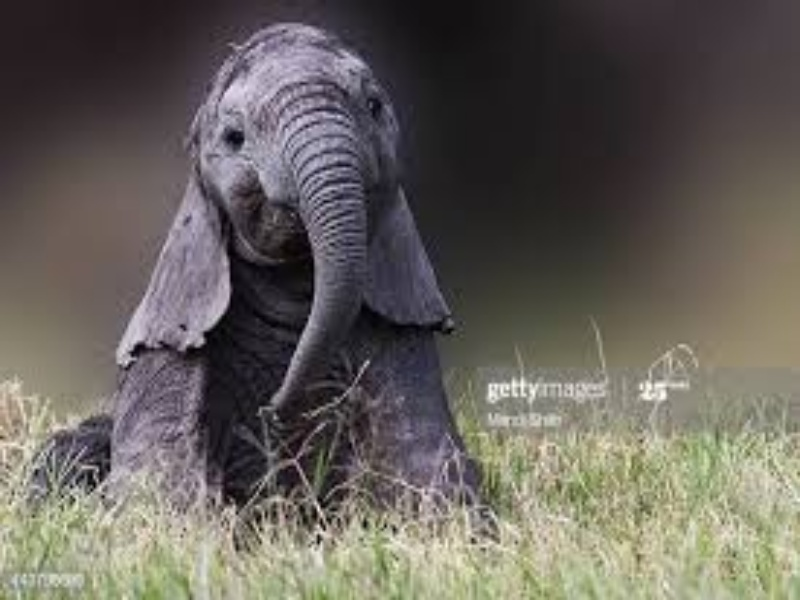elephant: (95, 13, 458, 503)
